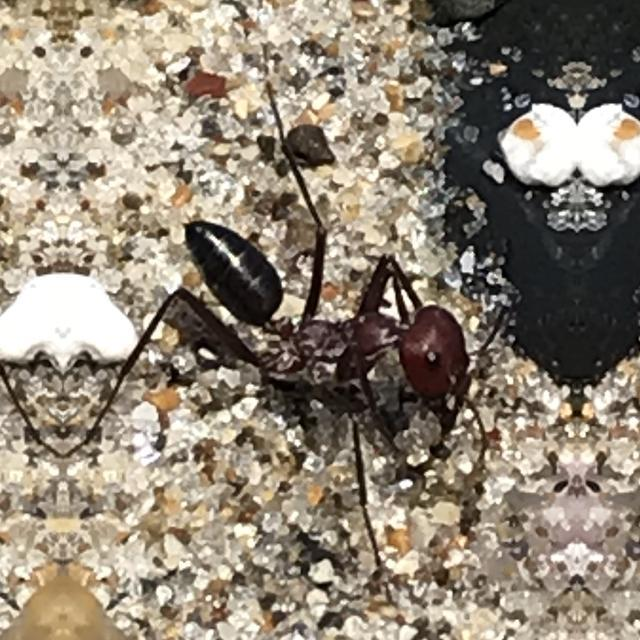Cataglyphis: (143, 174, 511, 460)
